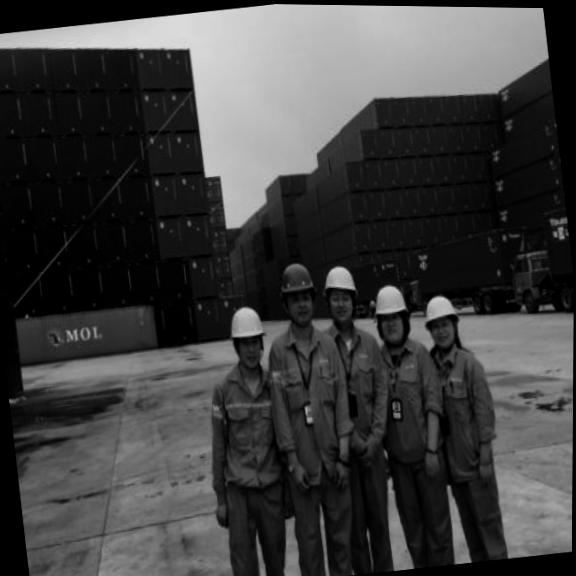safety_vest: (262, 320, 356, 478), (196, 361, 284, 496), (428, 342, 506, 485), (371, 329, 449, 469), (321, 316, 397, 459)
